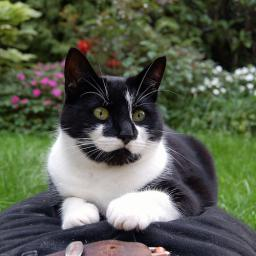catnose: (119, 131, 135, 144)
